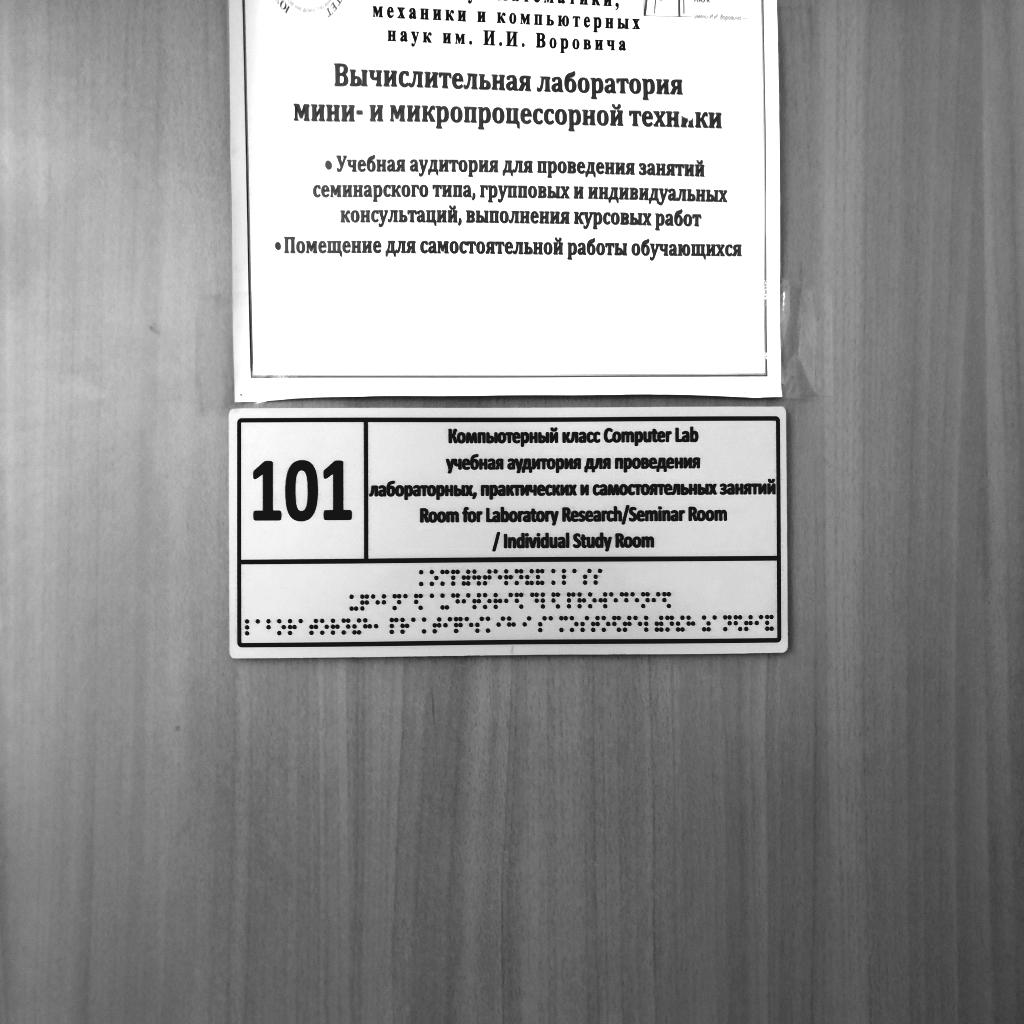_n: (514, 567, 524, 586), (392, 593, 402, 612), (341, 617, 351, 636), (641, 591, 651, 609), (665, 615, 674, 632), (723, 615, 732, 632)
_y: (439, 592, 450, 611), (349, 593, 359, 612)
a: (571, 567, 582, 587), (403, 593, 413, 612), (298, 617, 308, 636), (429, 592, 439, 610), (255, 619, 264, 636), (411, 617, 420, 634), (548, 616, 557, 633), (713, 615, 722, 632)
b: (380, 593, 391, 612), (266, 618, 276, 636)
ch: (360, 593, 370, 612), (454, 617, 463, 634)
d: (619, 591, 629, 609), (451, 592, 460, 610), (530, 592, 539, 610)
e: (493, 567, 502, 587), (630, 591, 640, 609), (464, 616, 474, 634), (371, 593, 380, 612), (609, 591, 618, 610), (633, 615, 643, 632)
i: (461, 591, 471, 610), (503, 592, 513, 611), (522, 615, 532, 633), (652, 590, 661, 609), (443, 617, 452, 634), (497, 616, 506, 633), (755, 614, 763, 632)
iKratkoe: (535, 567, 545, 586), (766, 614, 775, 632)
ii: (524, 567, 535, 587), (352, 618, 362, 636), (676, 615, 685, 632)
k: (551, 567, 561, 587), (419, 569, 429, 587), (486, 617, 496, 634), (422, 617, 431, 634)
l: (561, 567, 571, 587), (244, 619, 254, 636), (540, 592, 549, 610), (644, 615, 653, 633)
m: (440, 569, 450, 587), (559, 616, 568, 632)
myagkiy: (461, 569, 471, 587), (655, 615, 664, 632)
o: (430, 569, 440, 587), (482, 592, 492, 610), (277, 618, 287, 636), (320, 617, 329, 636), (588, 591, 597, 609), (602, 615, 611, 633), (570, 616, 579, 633)
p: (389, 616, 399, 635), (451, 569, 461, 587), (567, 592, 576, 609)
r: (503, 567, 514, 587), (287, 618, 298, 637), (493, 592, 503, 611), (577, 591, 587, 610), (330, 617, 340, 636), (400, 617, 409, 635)
s: (583, 567, 593, 587), (594, 567, 603, 587), (580, 615, 590, 633), (538, 616, 547, 633), (476, 617, 484, 634)
t: (482, 568, 492, 587), (472, 592, 482, 611), (309, 617, 318, 636), (591, 615, 600, 633), (433, 617, 442, 634), (623, 616, 632, 633), (744, 615, 753, 632)
u: (473, 568, 482, 587)
v: (598, 591, 608, 610)
x: (686, 615, 696, 632), (363, 617, 372, 635), (507, 616, 516, 633)
ya: (413, 592, 424, 612), (515, 591, 525, 611), (551, 592, 561, 610), (662, 591, 671, 609), (612, 616, 621, 633), (734, 615, 742, 632)
z: (702, 615, 711, 632)
zapyataya: (373, 617, 383, 635)
